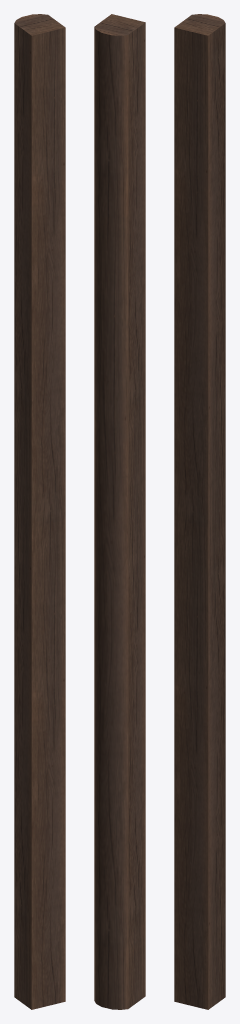
Rendered from pile06.fbx.
The picture shows the model from 3 angles, left to right: view 1: azimuth 30°, elevation 25°; view 2: azimuth 150°, elevation 25°; view 3: azimuth 330°, elevation 25°; orthographic projection.
Parts seen in each view (by area): view 1: pile06; view 2: pile06; view 3: pile06.
Part boxes in pixels (box(x1,y1,x2,y2)): pile06: box(14, 14, 65, 1009); pile06: box(94, 14, 145, 1009); pile06: box(174, 14, 225, 1009).
Size of the model in its own units: 10.79 by 296 by 12.
